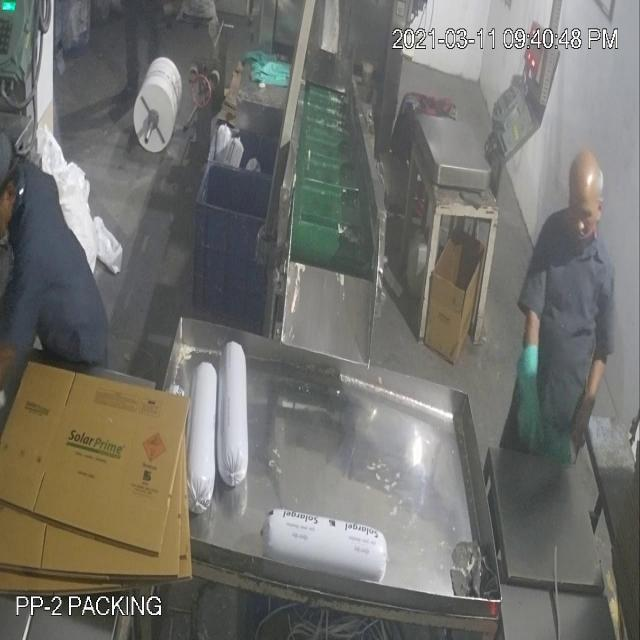Gloves: (36, 114, 591, 408)
